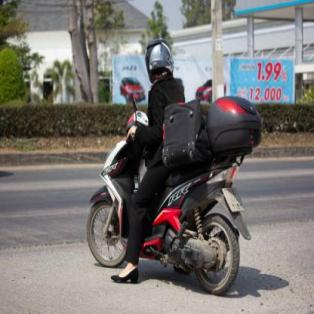Motocicleta: (82, 95, 249, 289)
